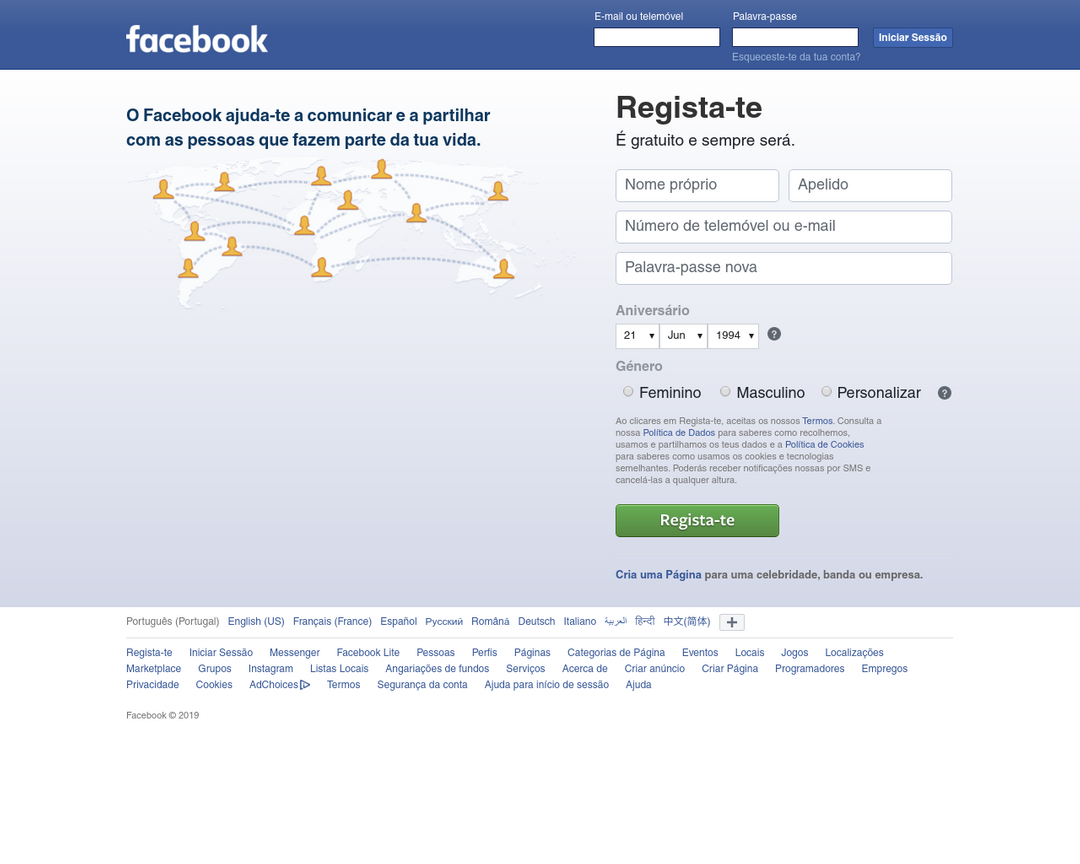Facebook: (123, 22, 273, 61)
